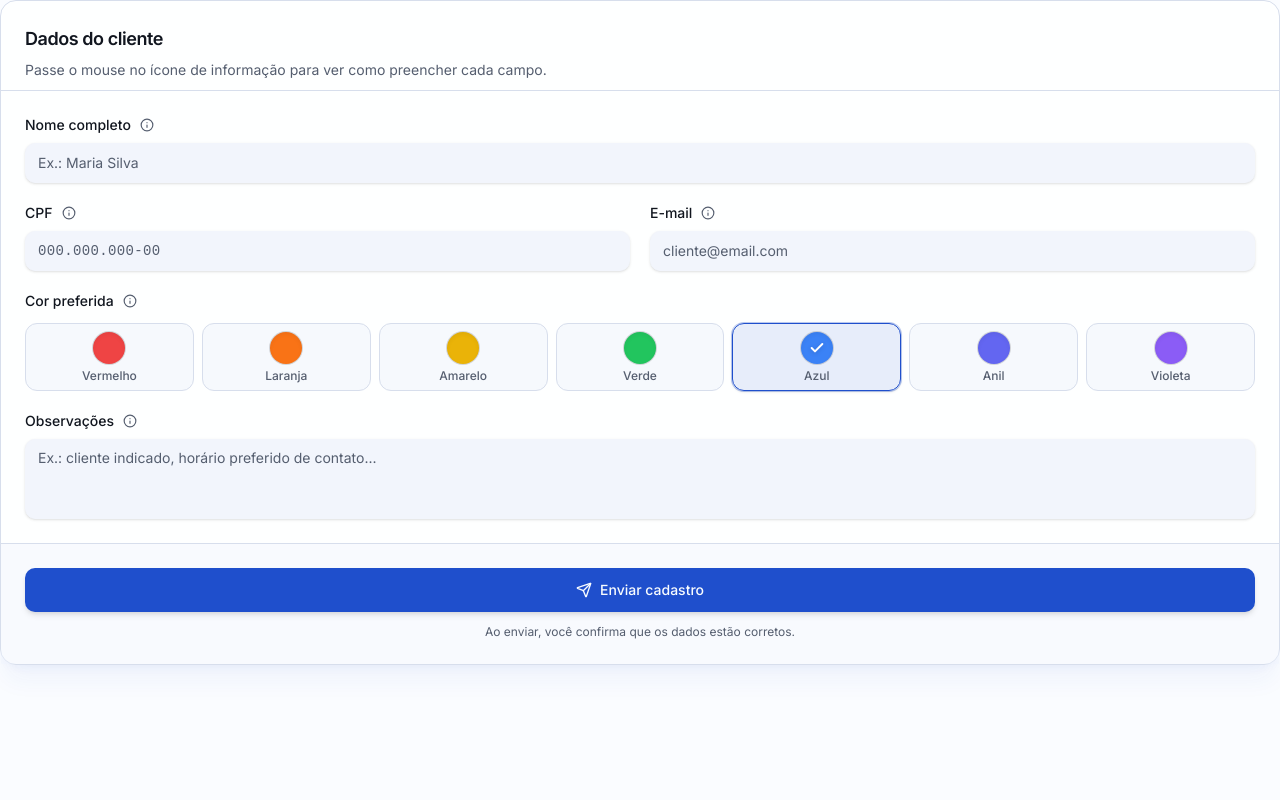
Test case: ClientRegistrationForm › should show validation errors for invalid fields
Click the button "Enviar cadastro".
click(640, 590)  # box x1=25 y1=568 x2=1255 y2=612
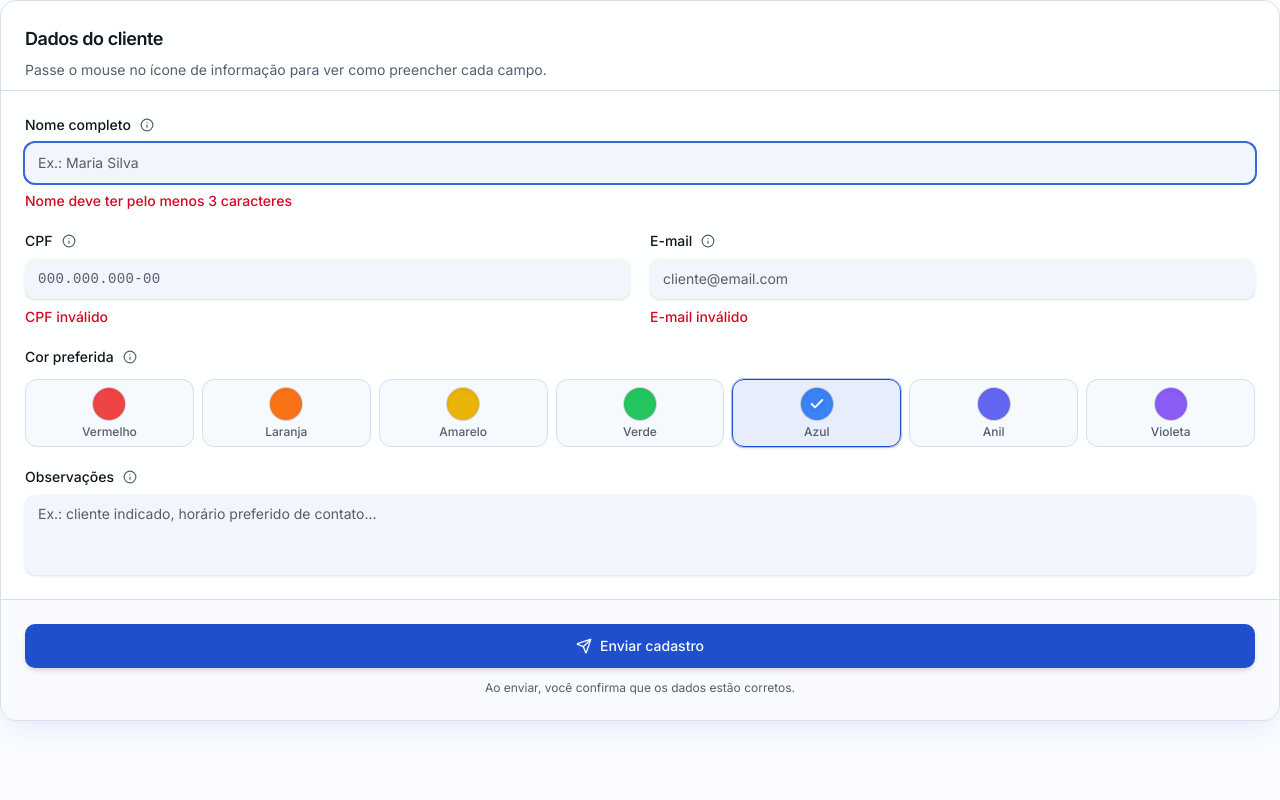
Now the text "Nome deve ter pelo menos 3 caracteres" is shown, box x1=25 y1=192 x2=292 y2=209
Now the text "CPF inválido" is shown, box x1=25 y1=308 x2=108 y2=325
